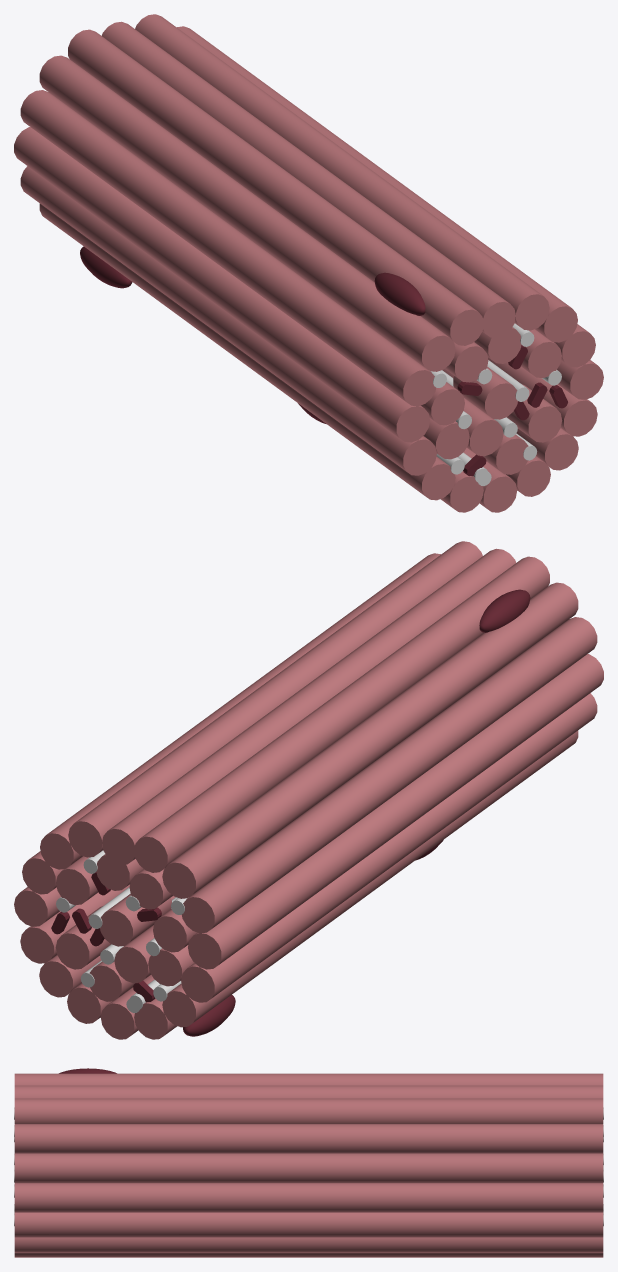
Rendered from skeletal_muscle_cell_anatomy.fbx.
The picture shows the model from 3 angles, top to bottom: view 1: azimuth 30°, elevation 25°; view 2: azimuth 150°, elevation 25°; view 3: azimuth 270°, elevation 25°; orthographic projection. The views are drawn at different scales.
Visible parts, largest first — view 1: pCylinder14, pCylinder15, pCylinder16, pCylinder13, pCylinder2, pCylinder37, pCylinder12, pCylinder11, pCylinder3, pCylinder6, pCylinder22, pCylinder24 (+15 smaller); view 2: pCylinder14, pCylinder15, pCylinder16, pCylinder13, pCylinder2, pCylinder37, pCylinder12, pCylinder11, pCylinder3, pCylinder6, pCylinder22, pCylinder24 (+15 smaller); view 3: pCylinder25, pCylinder5, pCylinder3, pCylinder2, pCylinder6, pCylinder7, pCylinder37, pCylinder16, pCylinder8.
Part boxes in pixels (box(x1,y1,x2,y2)): pCylinder14: box(20, 90, 435, 406); pCylinder15: box(39, 55, 455, 371); pCylinder16: box(68, 29, 483, 345); pCylinder13: box(14, 127, 429, 442); pCylinder2: box(135, 14, 549, 330); pCylinder37: box(101, 21, 515, 337); pCylinder12: box(20, 166, 436, 475); pCylinder11: box(39, 203, 455, 500); pCylinder3: box(177, 26, 577, 342); pCylinder6: box(488, 357, 597, 436); pCylinder22: box(453, 367, 517, 419); pCylinder24: box(507, 384, 562, 442); pCylinder14: box(182, 617, 597, 933); pCylinder15: box(162, 582, 578, 898); pCylinder16: box(134, 556, 549, 872); pCylinder13: box(188, 654, 603, 969); pCylinder2: box(68, 541, 482, 857); pCylinder37: box(102, 548, 516, 864); pCylinder12: box(181, 693, 597, 1002); pCylinder11: box(162, 730, 578, 1027); pCylinder3: box(40, 553, 440, 869); pCylinder6: box(20, 884, 129, 963); pCylinder22: box(100, 894, 171, 946); pCylinder24: box(55, 906, 110, 969); pCylinder25: box(14, 1153, 603, 1183); pCylinder5: box(14, 1183, 603, 1212); pCylinder3: box(14, 1124, 603, 1153); pCylinder2: box(14, 1098, 603, 1123); pCylinder6: box(14, 1212, 603, 1237); pCylinder7: box(14, 1237, 603, 1252); pCylinder37: box(14, 1085, 603, 1098); pCylinder16: box(14, 1073, 603, 1085); pCylinder8: box(14, 1253, 603, 1257).
Size of the model in its own units: 18.69 by 18.59 by 59.83.
